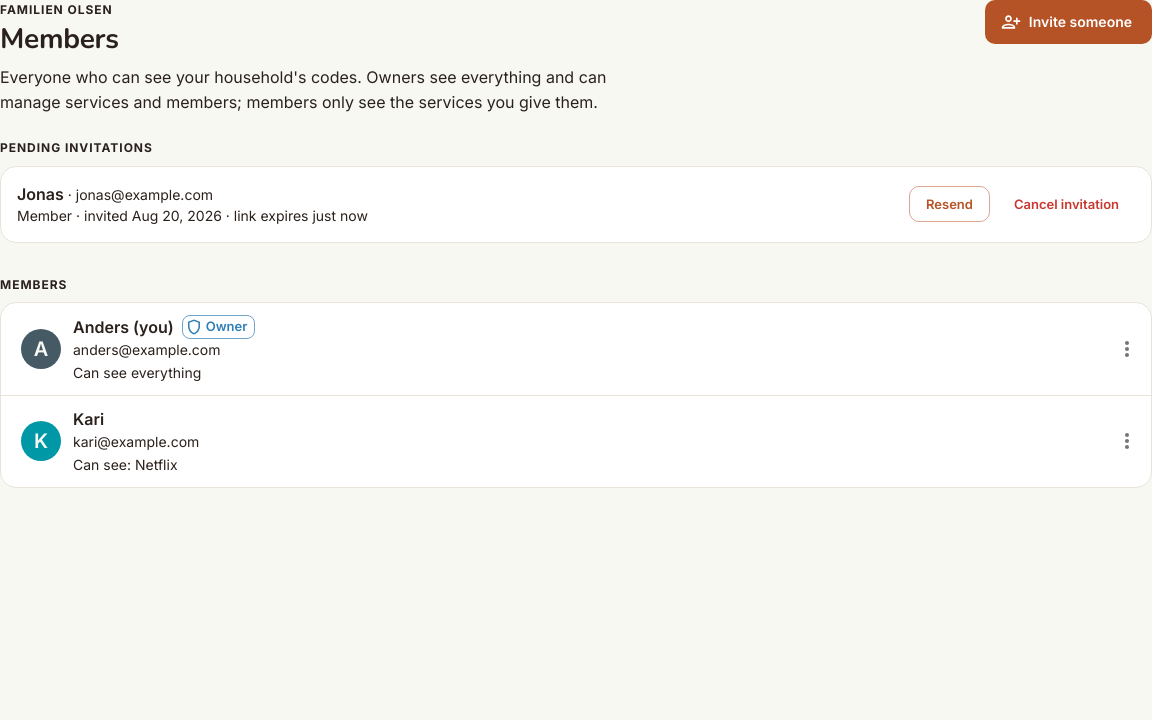
MembersPage › invites someone with role + services in one flow and confirms the email went out
The width and height of the screenshot is (1152, 720).
Click the button "Invite someone" at (1068, 22), box x1=985 y1=0 x2=1151 y2=44
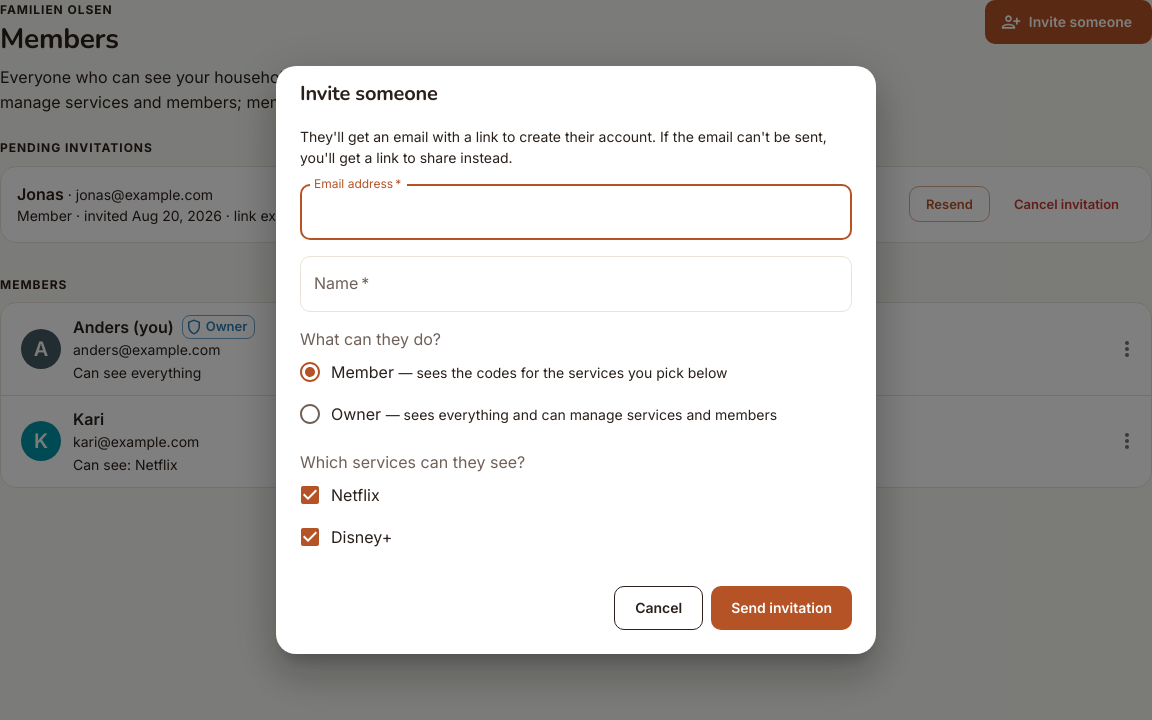
Click the button "Send invitation" at (782, 608), box x1=711 y1=586 x2=852 y2=630
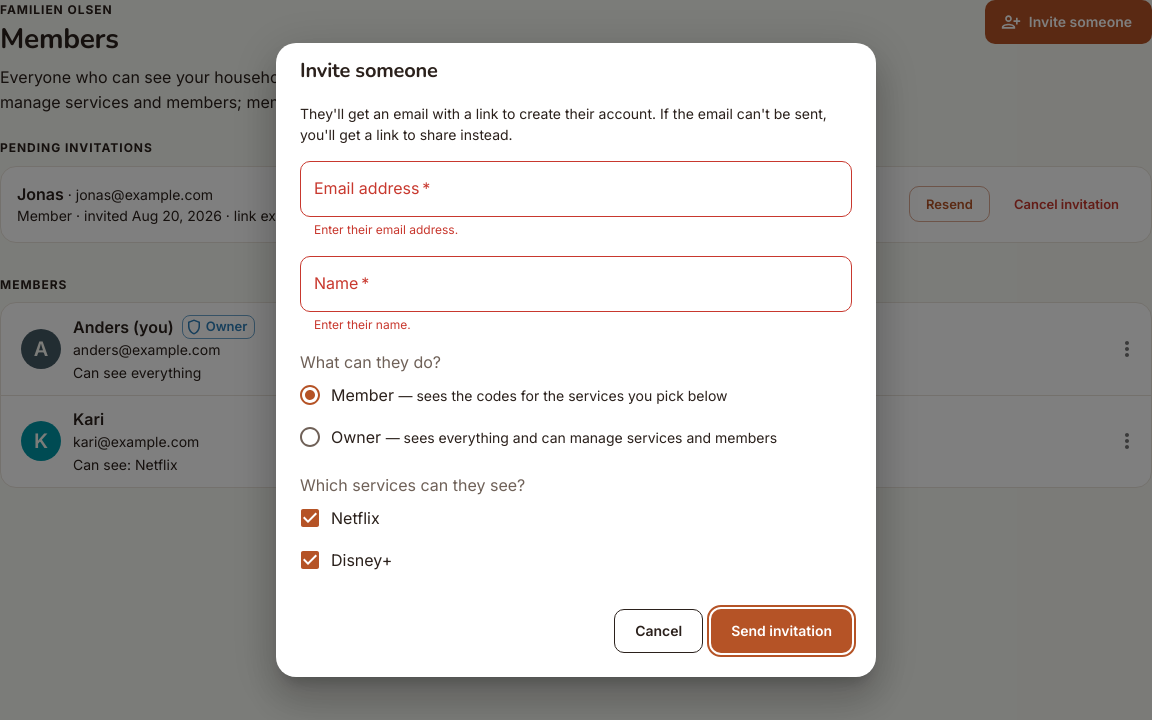
Check: the text "Enter their email address." is shown, box x1=314 y1=222 x2=458 y2=237
Type "mor@example.com" into the field labelled "Email address *" at (576, 189), box x1=300 y1=161 x2=852 y2=217
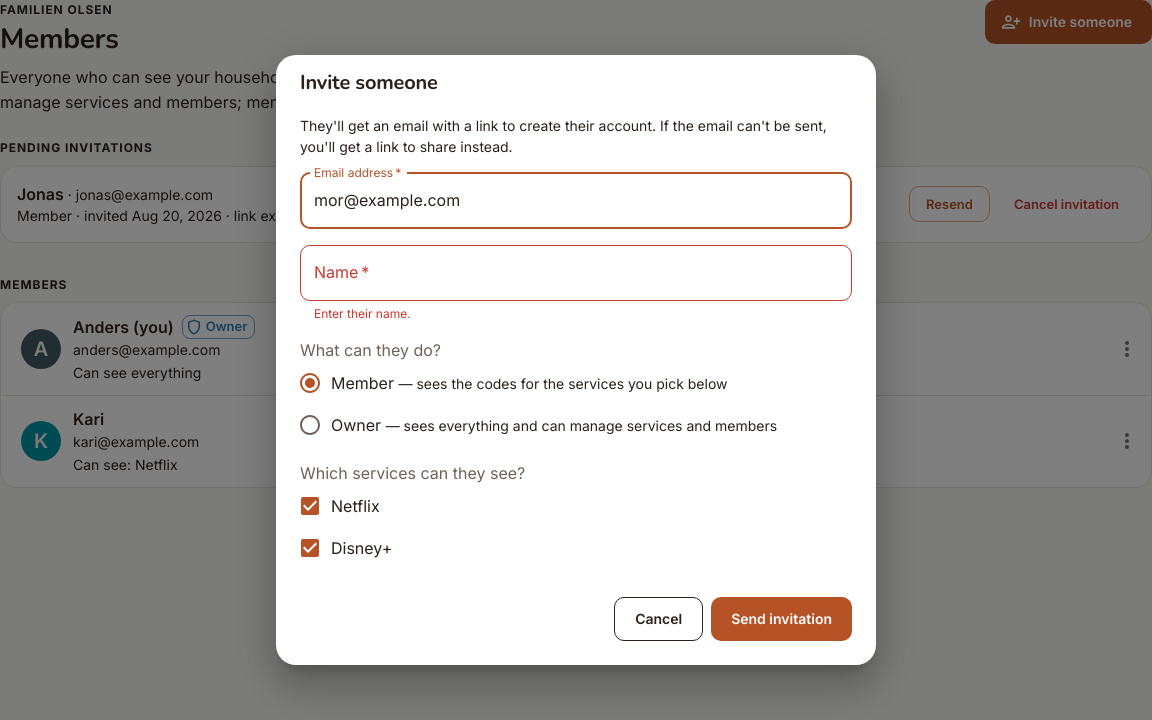
Type "Mor" into the field labelled "Name *" at (576, 272), box x1=300 y1=244 x2=852 y2=300
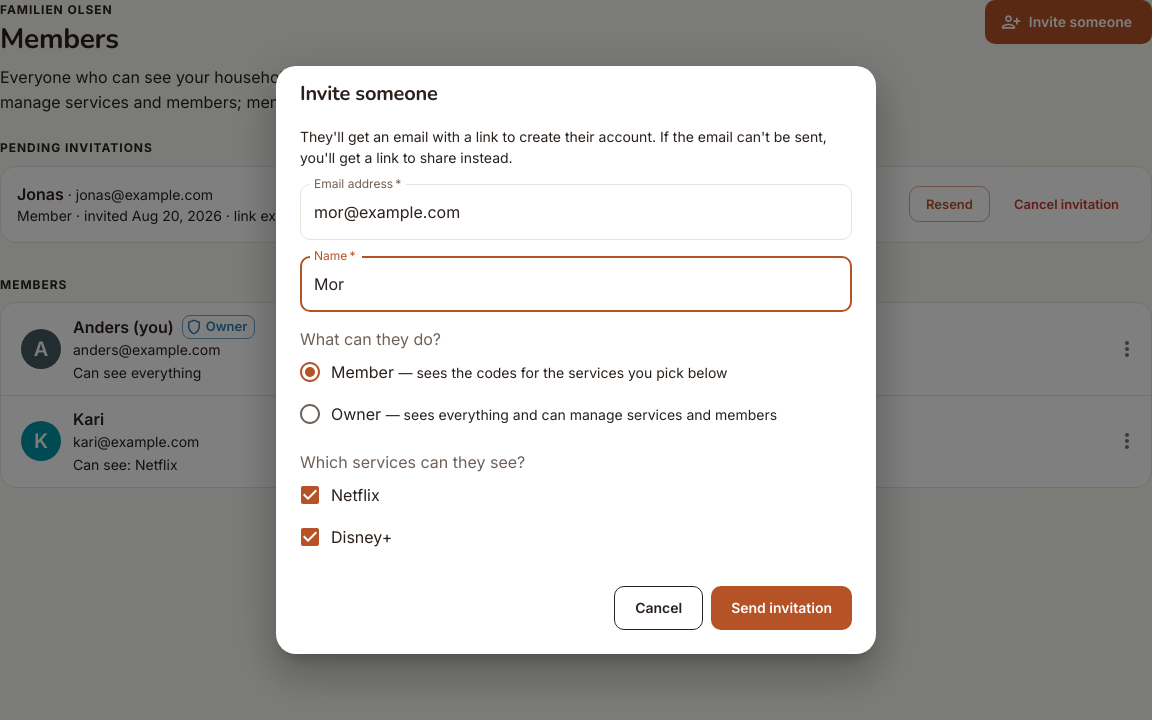
Click the checkbox labelled "Disney+" at (345, 537), box x1=298 y1=525 x2=392 y2=549
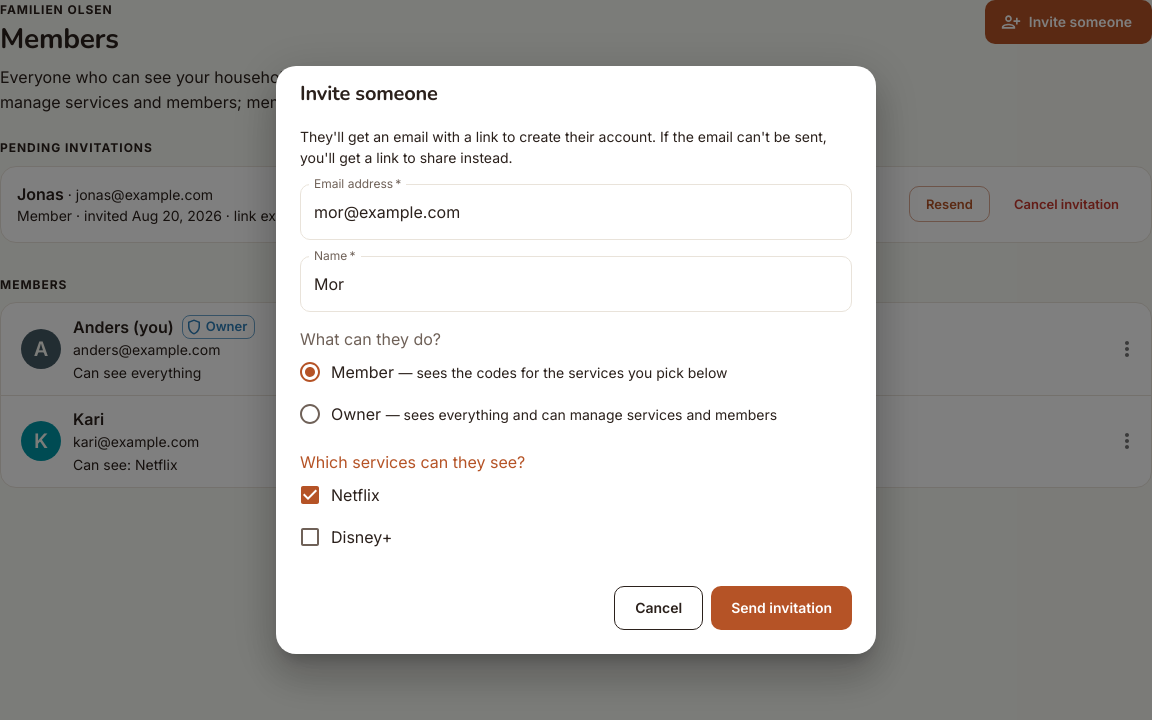
Click the button "Send invitation" at (782, 608), box x1=711 y1=586 x2=852 y2=630
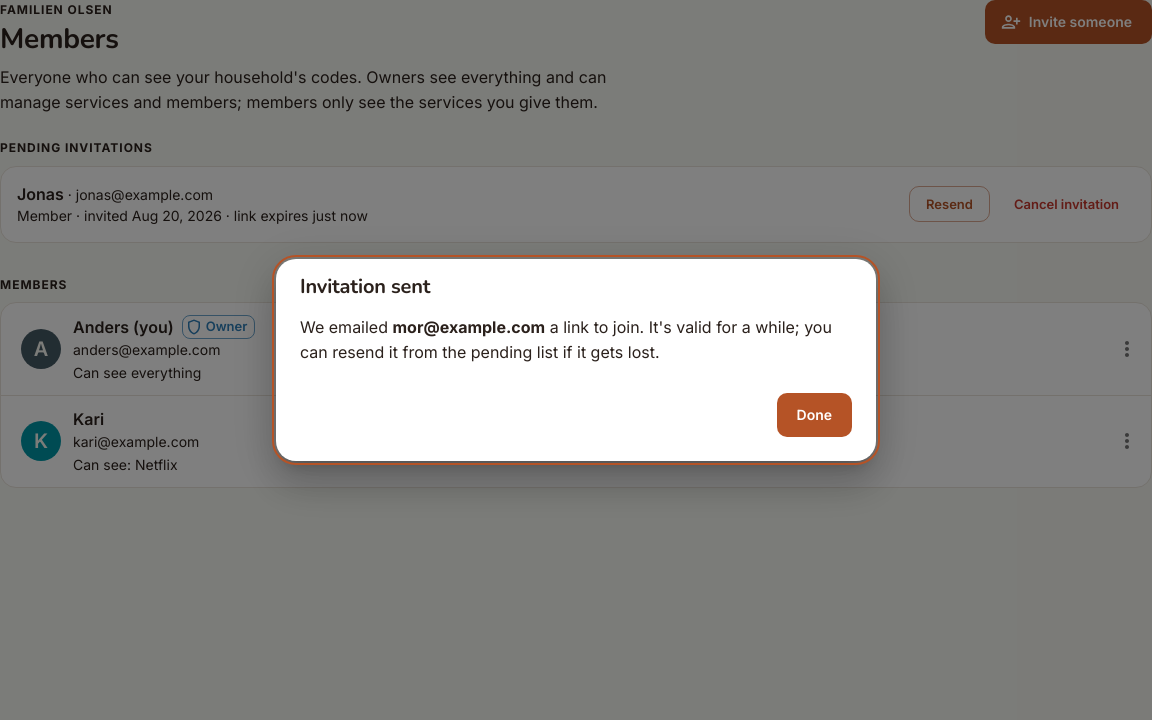
Check: the dialog "Invitation sent" is shown, box x1=276 y1=259 x2=876 y2=461
